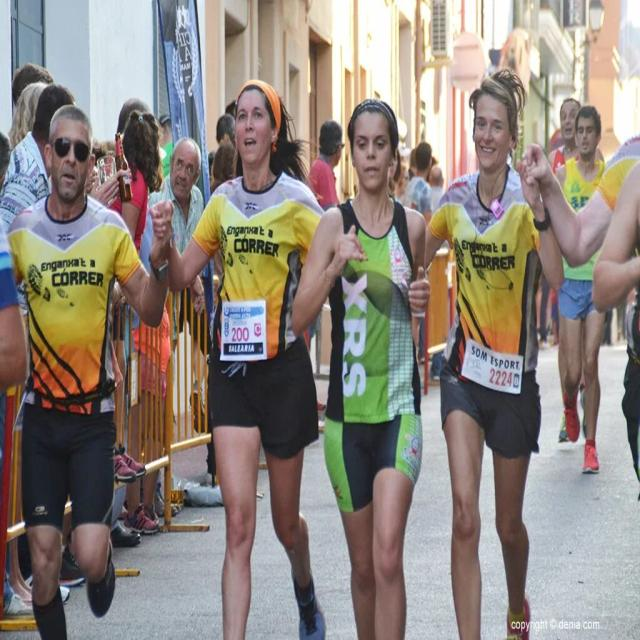Bib: (488, 366, 513, 390), (229, 325, 252, 345)
